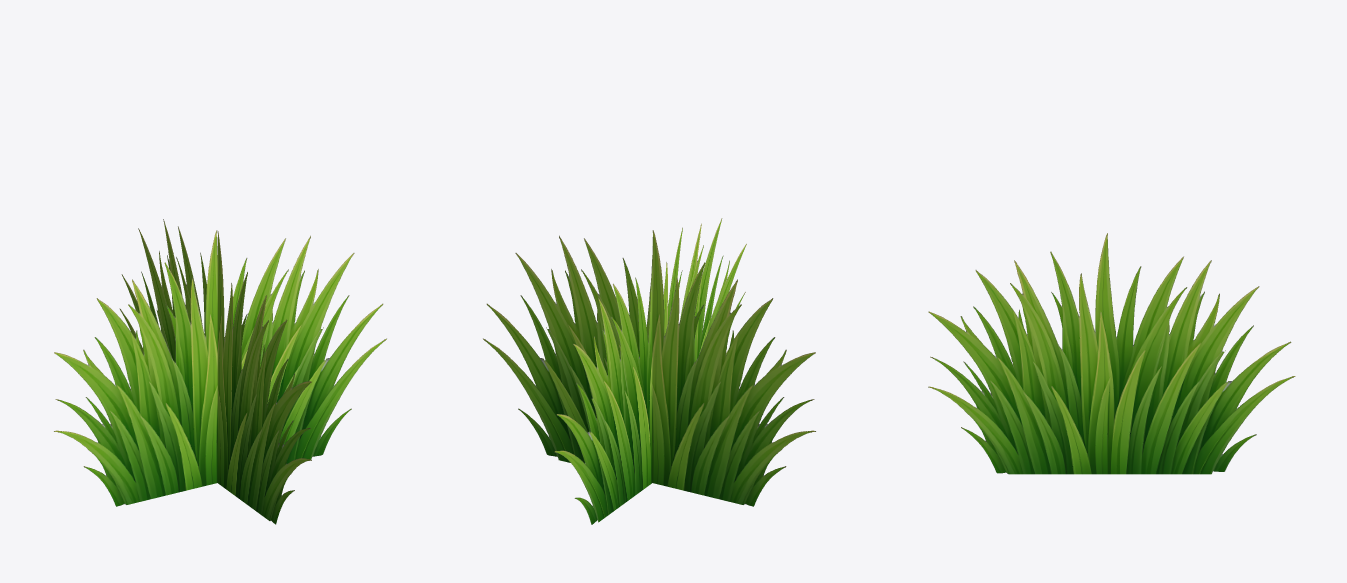
Rendered from Grass mesh.fbx.
The picture shows the model from 3 angles, left to right: view 1: azimuth 30°, elevation 25°; view 2: azimuth 150°, elevation 25°; view 3: azimuth 270°, elevation 25°; orthographic projection. The views are drawn at different scales.
Visible parts, largest first — view 1: pPlane3; view 2: pPlane3; view 3: pPlane3.
Part boxes in pixels (box(x1,y1,x2,y2)): pPlane3: box(54, 219, 386, 524); pPlane3: box(483, 218, 815, 524); pPlane3: box(928, 233, 1295, 474).
Bounding box in the file's own units: 7.09 × 6.38 × 7.09.
